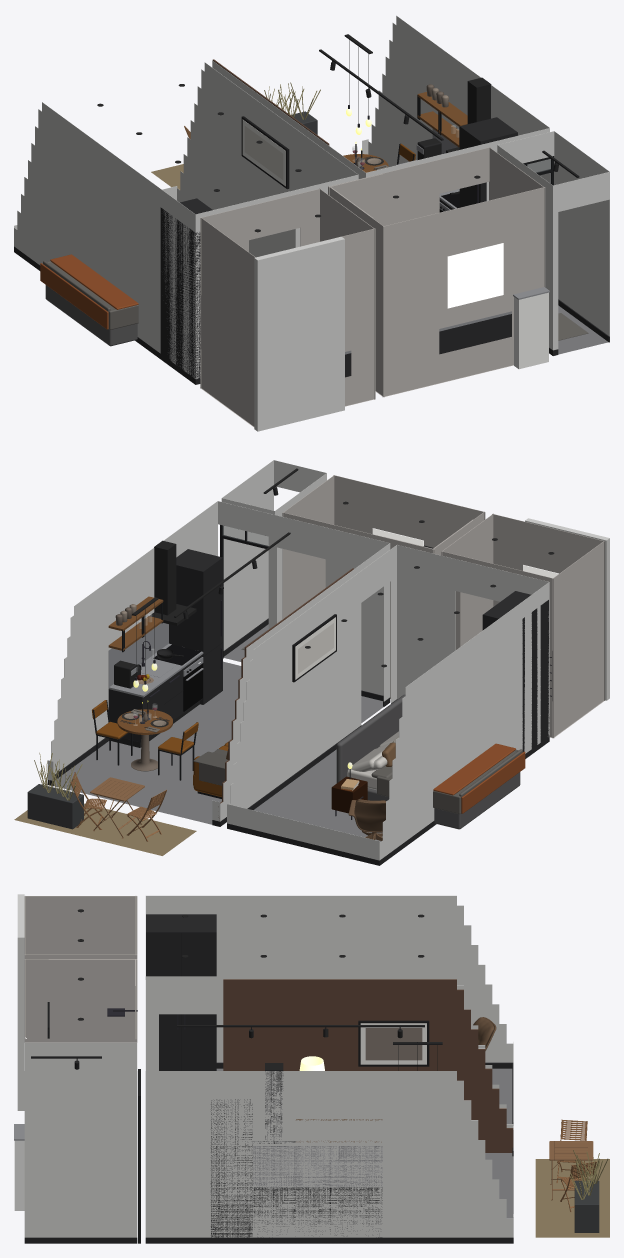
File: unit-2.A-urban.glb
The picture shows the model from 3 angles, top to bottom: view 1: azimuth 30°, elevation 25°; view 2: azimuth 150°, elevation 25°; view 3: azimuth 270°, elevation 25°; orthographic projection. The views are drawn at different scales.
Parts seen in each view (by area): view 1: int-wall, int-bathWall, int-joineryTall, int-ledStrip, int-bedThrow, int-whiteGloss, int-matteBlack, int-wood, int-showerWall, int-headboard, int-duvet, int-art:5:0 (+7 smaller); view 2: int-wall, int-bathWall, int-floor, int-joineryTall, int-headboard, int-deck, int-matteBlack, int-skirting, int-bedThrow, int-joinery, int-wood, int-outdoor (+22 smaller); view 3: int-wall, int-feature, int-joineryTall, int-bathWall, int-showerWall, int-deck, int-skirting, int-splash, int-joinery, int-floor, int-art:3:1, int-matteBlack (+10 smaller).
Boxes of the visible parts, x1,y1,x2,y2 form: int-wall: [14, 15, 609, 431]; int-bathWall: [200, 147, 545, 426]; int-joineryTall: [160, 117, 517, 383]; int-ledStrip: [447, 243, 503, 308]; int-bedThrow: [40, 254, 138, 329]; int-whiteGloss: [514, 292, 548, 369]; int-matteBlack: [330, 34, 558, 194]; int-wood: [343, 92, 467, 172]; int-showerWall: [328, 174, 383, 225]; int-headboard: [45, 285, 137, 346]; int-duvet: [43, 260, 138, 329]; int-art:5:0: [244, 126, 283, 179]; int-wall: [47, 460, 609, 860]; int-bathWall: [282, 475, 604, 737]; int-floor: [54, 661, 383, 842]; int-joineryTall: [169, 549, 549, 751]; int-headboard: [336, 694, 520, 829]; int-deck: [14, 803, 196, 855]; int-matteBlack: [111, 486, 350, 779]; int-skirting: [47, 618, 549, 865]; int-bedThrow: [433, 743, 525, 813]; int-joinery: [108, 655, 202, 742]; int-wood: [108, 596, 172, 734]; int-outdoor: [27, 784, 83, 829]; int-wall: [17, 894, 513, 1237]; int-feature: [223, 979, 513, 1152]; int-joineryTall: [146, 914, 252, 1243]; int-bathWall: [24, 896, 137, 1042]; int-showerWall: [48, 959, 137, 1038]; int-deck: [535, 1159, 609, 1237]; int-skirting: [24, 1062, 513, 1243]; int-splash: [253, 1146, 382, 1185]; int-joinery: [253, 1187, 382, 1235]; int-floor: [216, 1068, 513, 1218]; int-art:3:1: [365, 1028, 422, 1060]; int-matteBlack: [74, 1027, 442, 1243].
Bounding box in the file's own units: 6.37 × 2.7 × 8.41.
